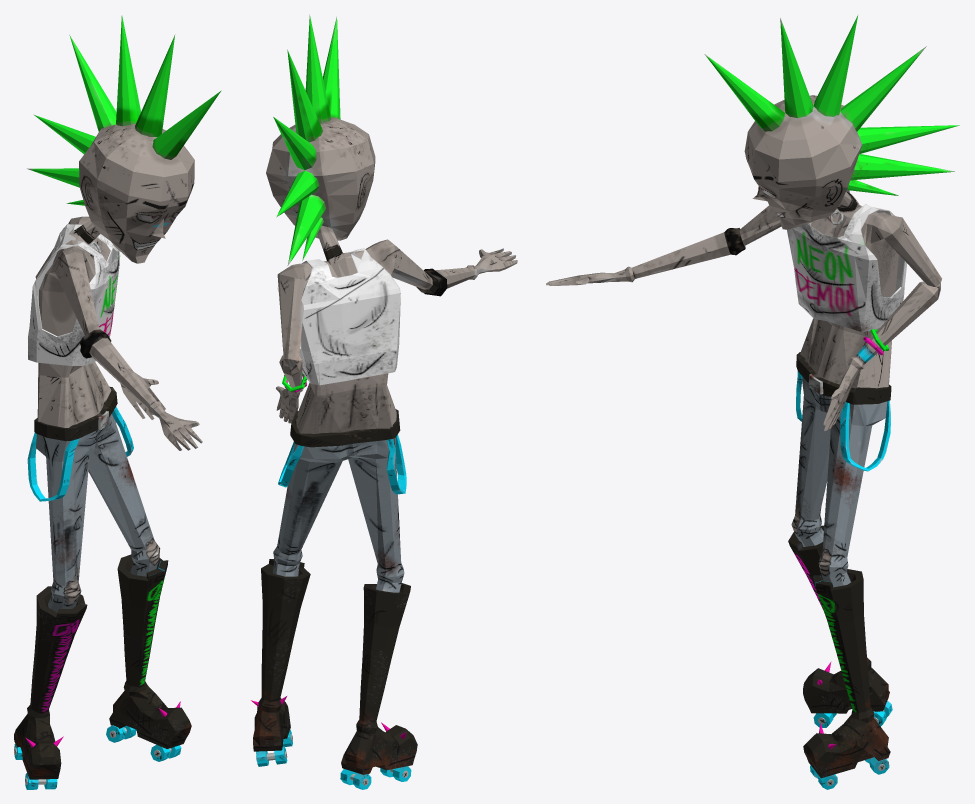
File: punkAnimation_000006.obj
The picture shows the model from 3 angles, left to right: view 1: azimuth 30°, elevation 25°; view 2: azimuth 150°, elevation 25°; view 3: azimuth 270°, elevation 25°; orthographic projection. The views are drawn at different scales.
Parts seen in each view (by area): view 1: Cube.004_Cube.003; view 2: Cube.004_Cube.003; view 3: Cube.004_Cube.003.
Part boxes in pixels (x1,y1,x2,y2): Cube.004_Cube.003: (14, 15, 221, 789); Cube.004_Cube.003: (251, 14, 517, 789); Cube.004_Cube.003: (546, 15, 959, 789).
Bounding box in the file's own units: 1.68 × 7.45 × 3.68.
